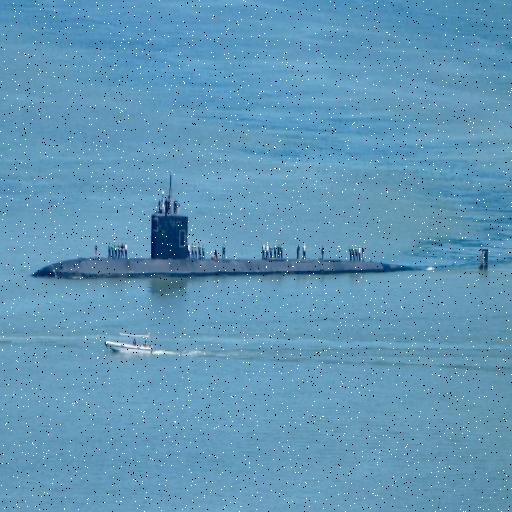submarine: (33, 213, 489, 279)
